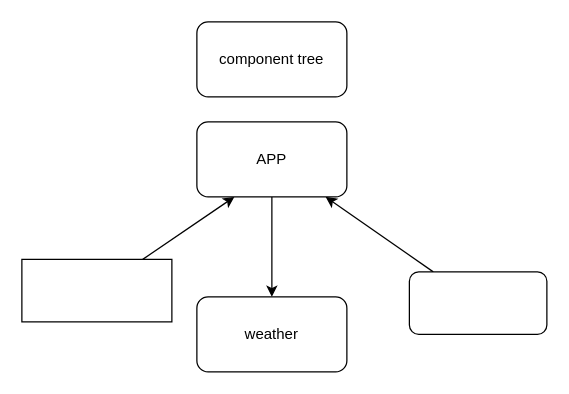
Image size: 569x394. Some labels were removed from this diagram. Each missing label, with the centre of its shape:
API: the point at 477,302
search bar Input field handleChange: the point at 96,290
